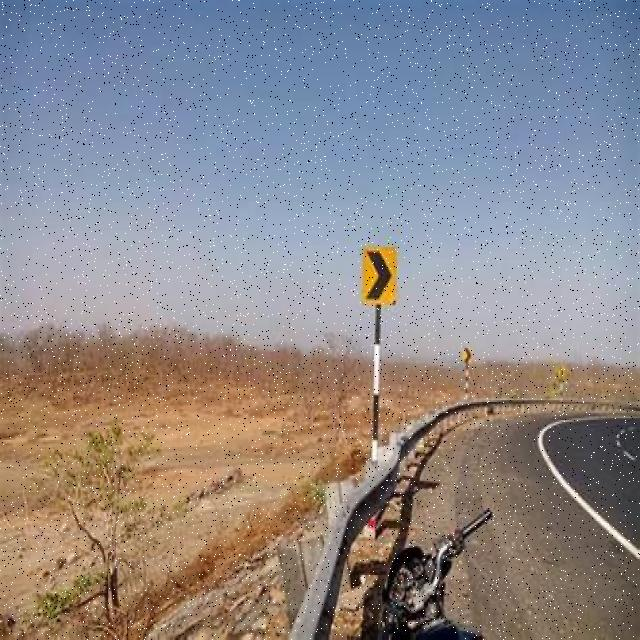chevron_right: (363, 249, 398, 310)
